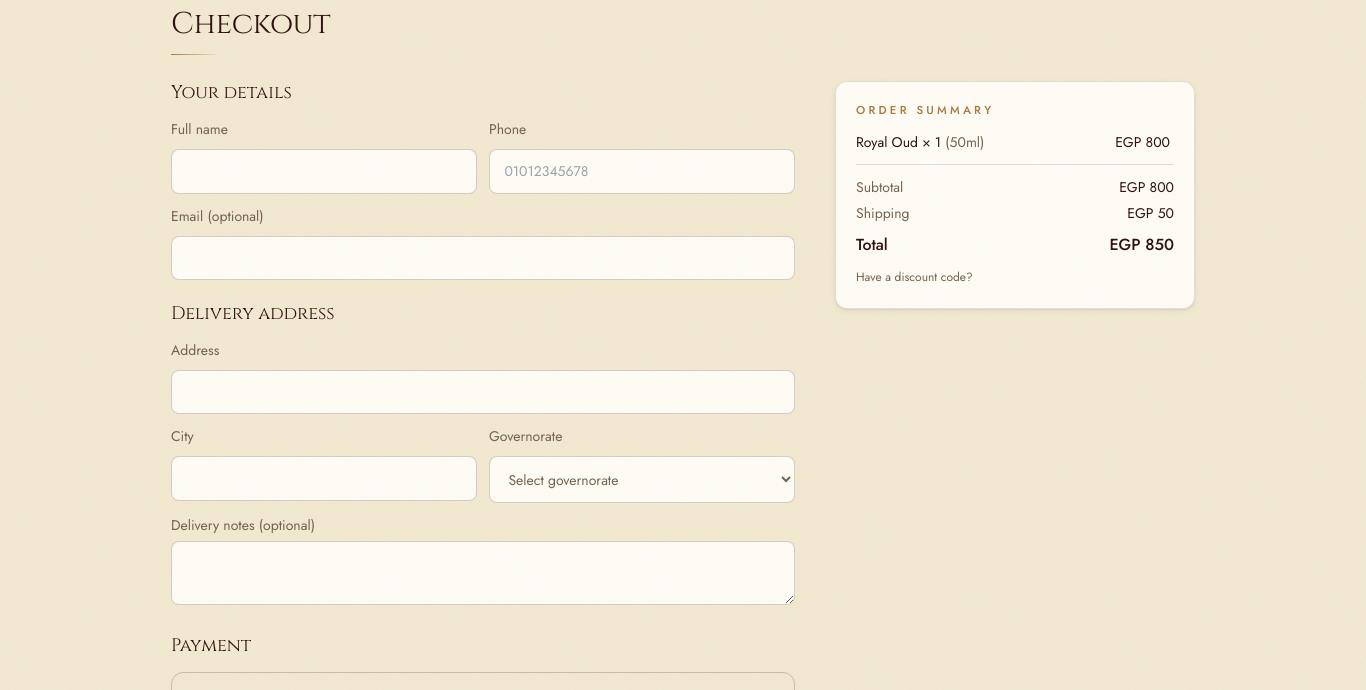
Scenario: Checkout › shows per-field errors and blocks submission on invalid input
Expected: the text "Royal Oud × 1 (50ml)" is shown, [856,131,984,151]
# Invalid Egyptian phone + missing required fields
Type "12345" into the field labelled "Phone" at (642, 172), box [489,149,795,194]
(page scrolled)
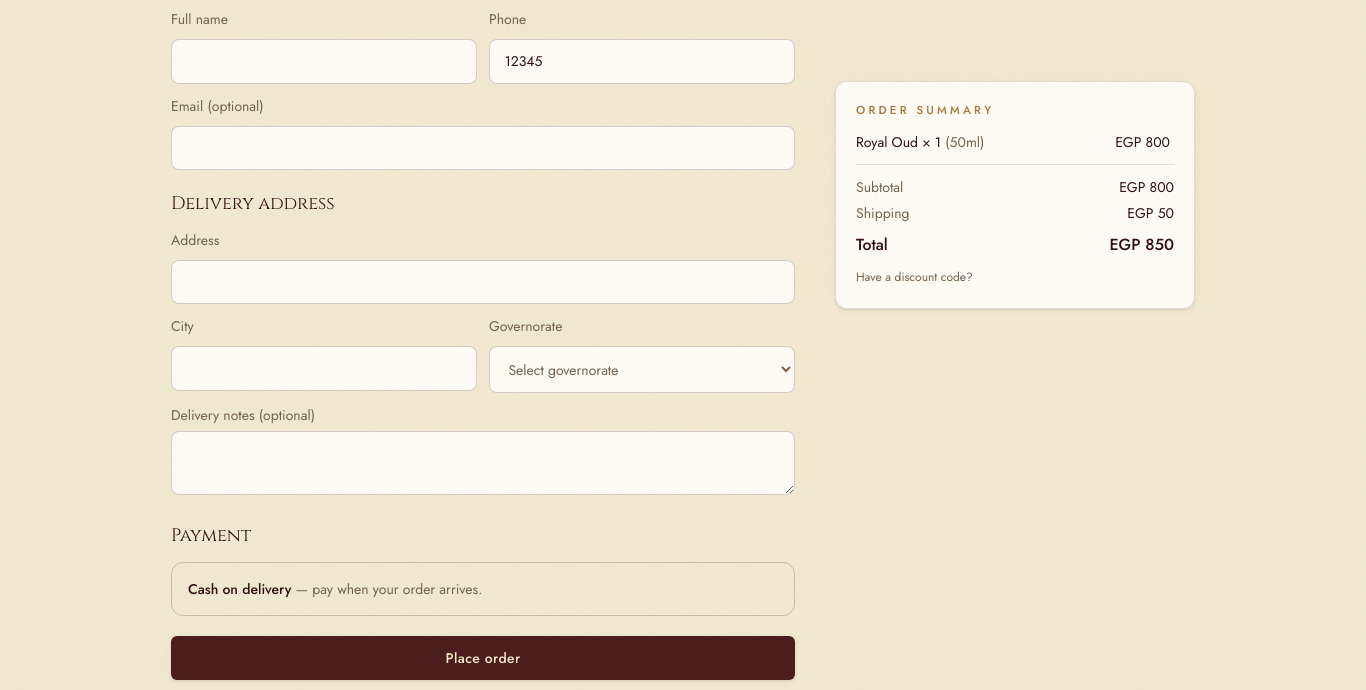
Click the button "Place order" at (483, 658), box [171,636,795,680]
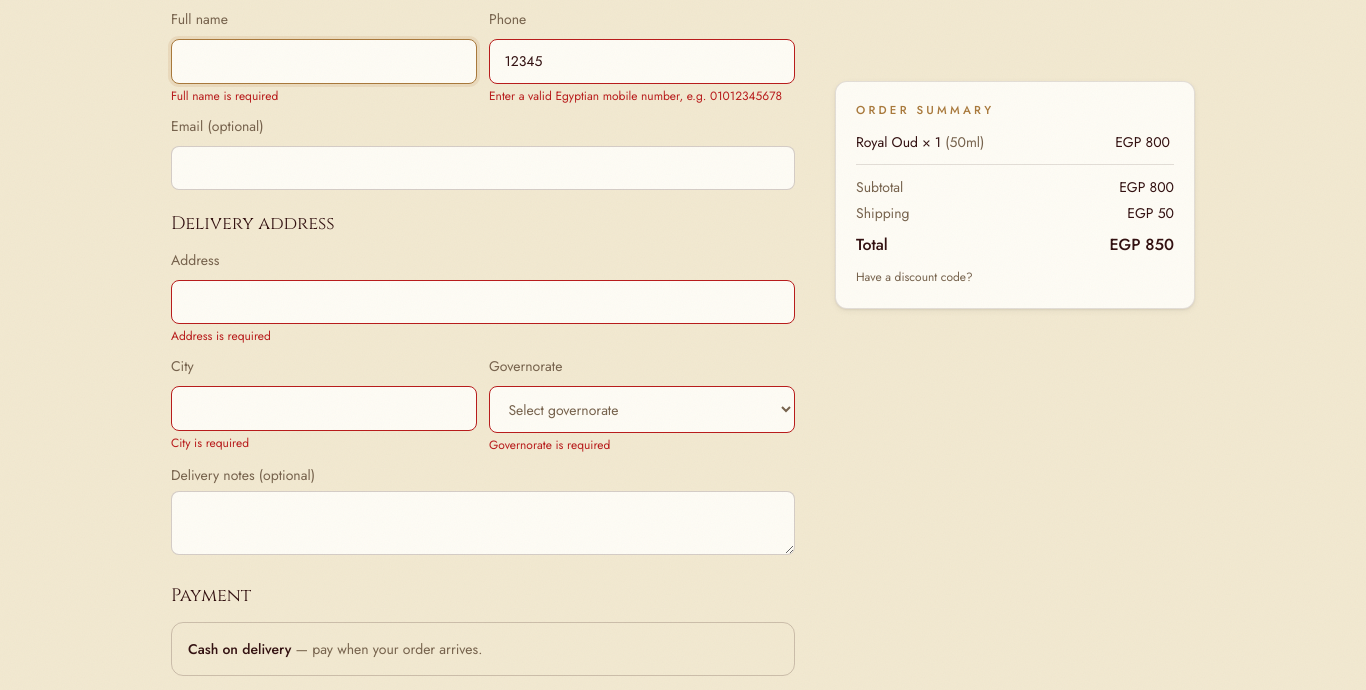
Expected: the text "Full name is required" is shown, [171,87,278,105]
Expected: the text "Enter a valid Egyptian mobile number, e.g. 01012345678" is shown, [489,88,795,104]
Expected: the text "Address is required" is shown, [171,327,271,345]
# Typing in a field clears its error
Type "Mai" into the field labelled "Full name" at (324, 62), box [171,39,477,84]
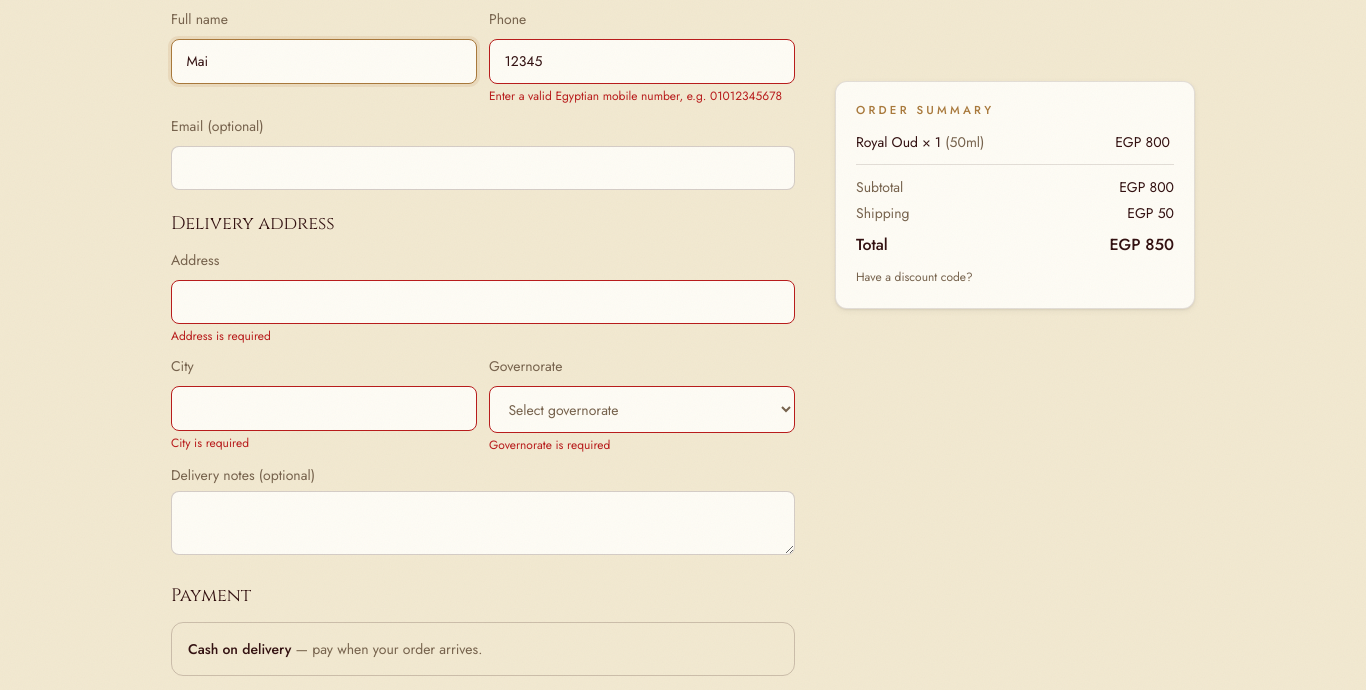
Expected: the text "Full name is required" is gone
